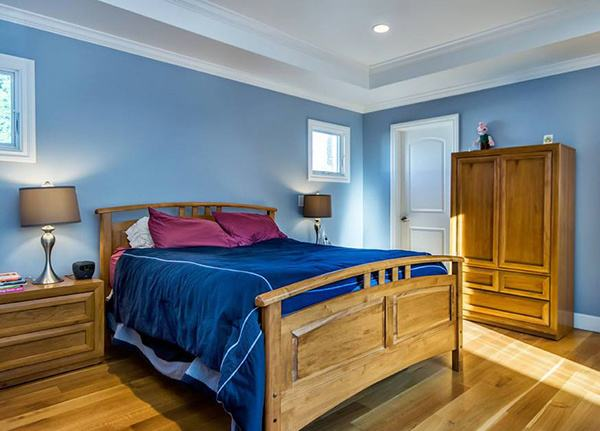床: (107, 243, 465, 415)
枕头: (137, 202, 286, 252)
灯: (13, 181, 79, 288), (298, 192, 335, 250), (368, 22, 391, 38)
